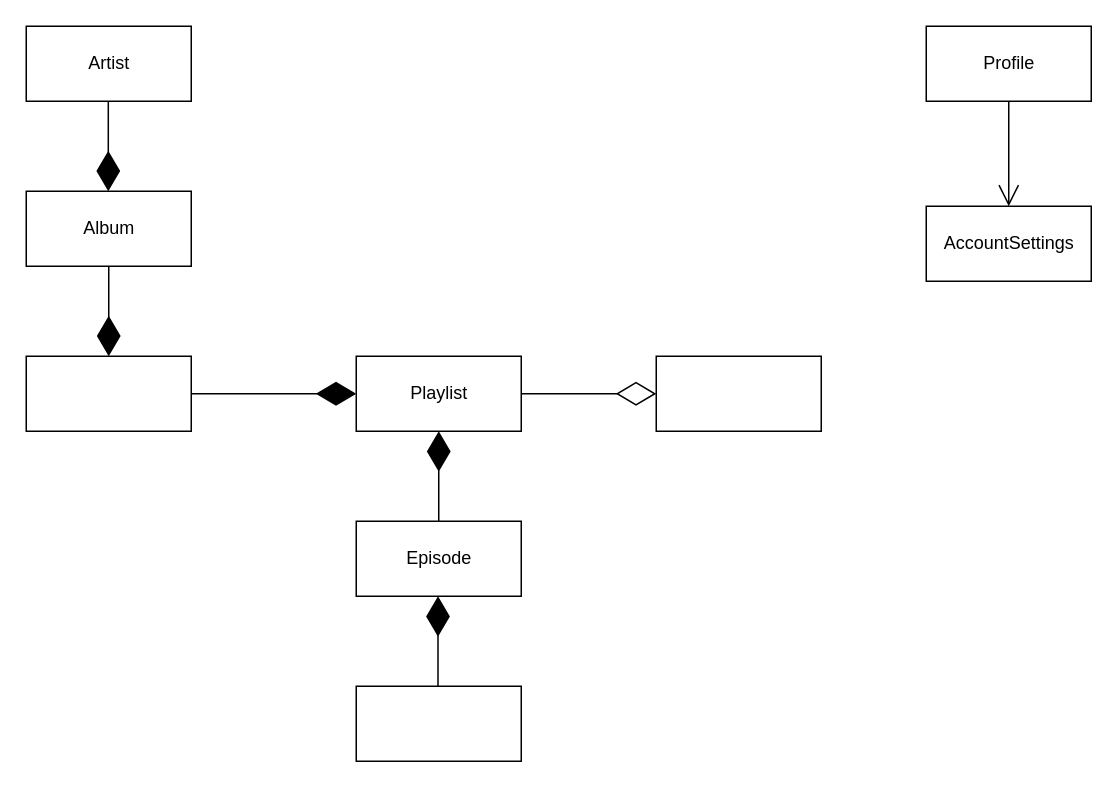
Image size: 1118x788. Some labels were removed from this diagram. The shapes that lost their labels are listed below. From the top down, each one's centre as x and y in pixels, then its label:
At point 108,393: "Song".
At point 738,393: "Queue".
At point 438,723: "Podcast".
